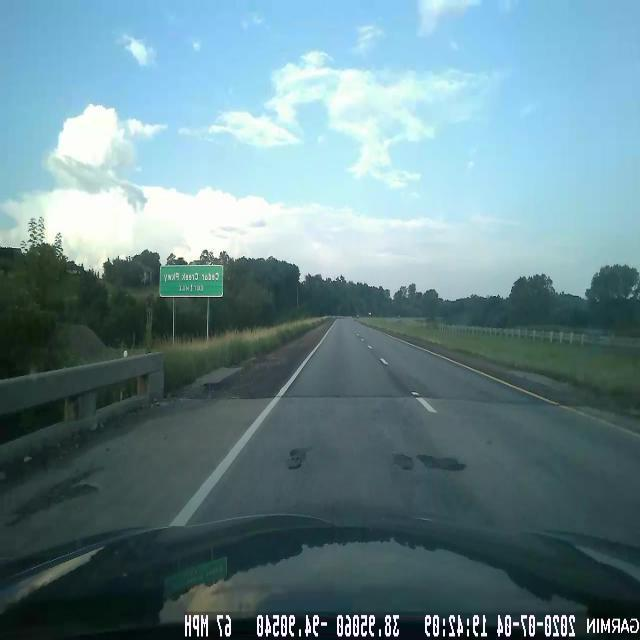pothole: (414, 431, 475, 481), (273, 428, 316, 483), (387, 443, 417, 488)
